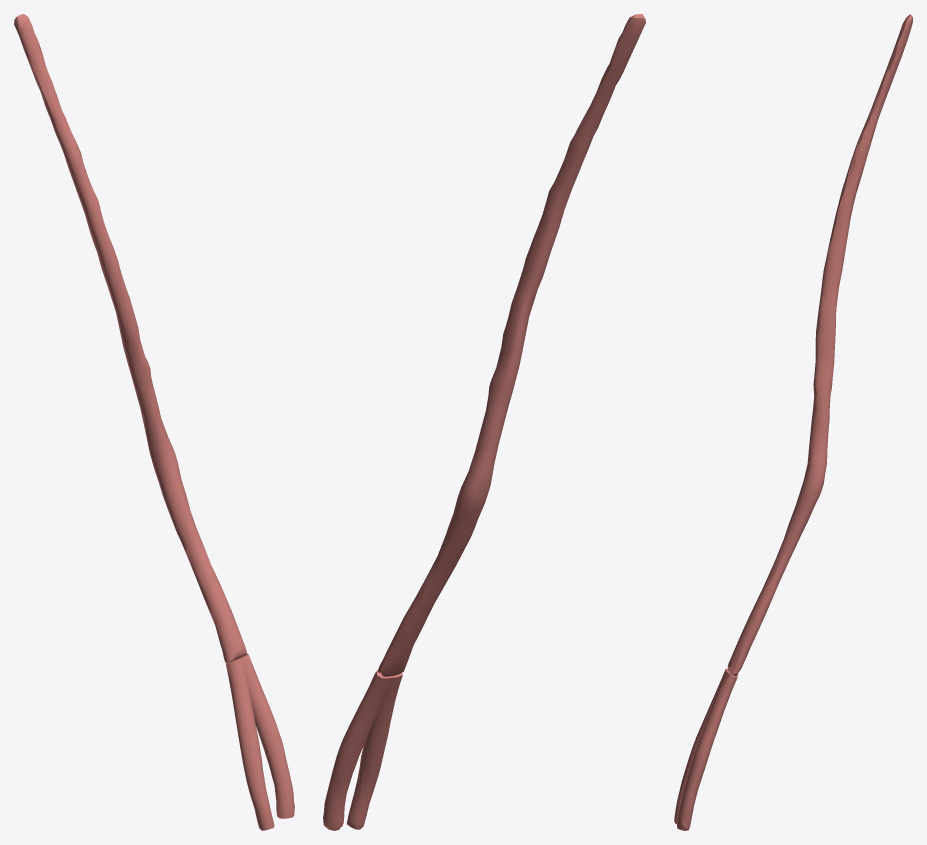
File: fma42556_mm1966m.glb
3 renders of one model, left to right at view 1: azimuth 30°, elevation 25°; view 2: azimuth 210°, elevation 25°; view 3: azimuth 270°, elevation 25°, orthographic. The views are drawn at different scales.
Parts seen in each view (by area): view 1: FMA42556_MM1966M; view 2: FMA42556_MM1966M; view 3: FMA42556_MM1966M.
Part boxes in pixels (<box>): FMA42556_MM1966M: <box>14,14,294,830</box>; FMA42556_MM1966M: <box>323,14,645,830</box>; FMA42556_MM1966M: <box>674,14,912,830</box>.
Bounding box in the file's own units: 0.044 × 0.1947 × 0.0563.
